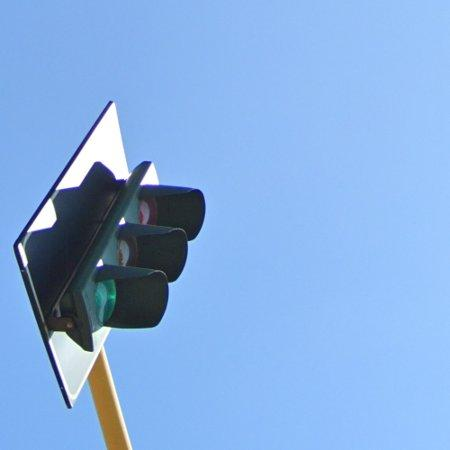traffic lights: (47, 162, 203, 351)
